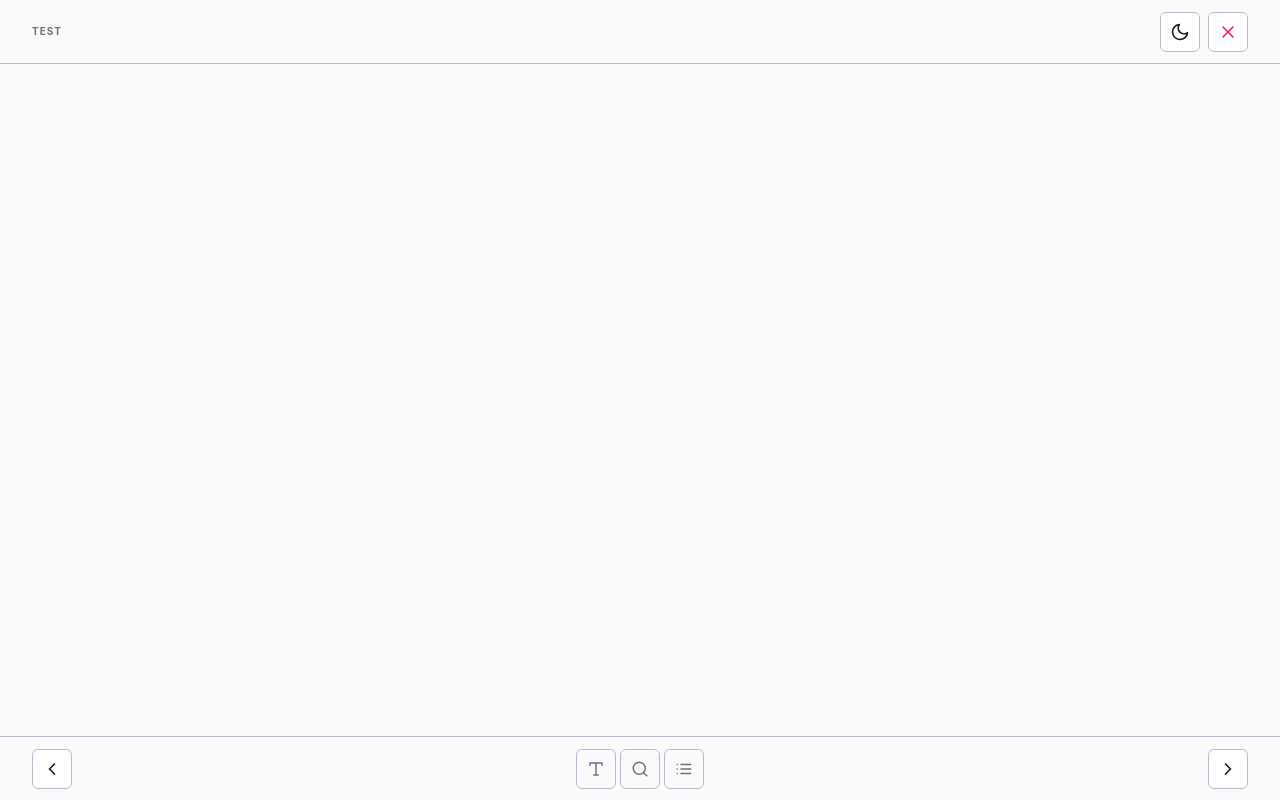
Test: ReaderOverlay › toggles search panel when search button is clicked
expect the text "find keyword" is not shown: met
Click the button named "Search book". click: (640, 768)
box: 620,748 -> 660,788
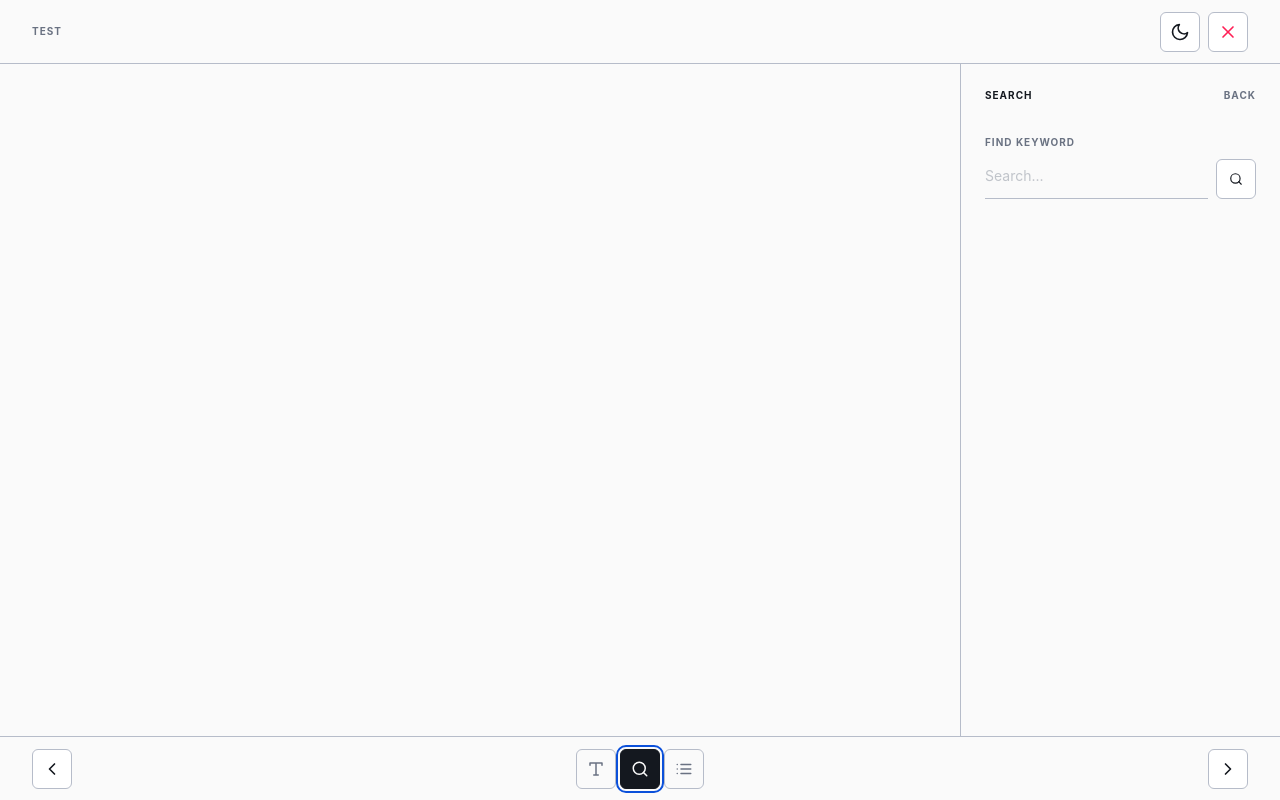
expect the text "find keyword" is shown: met, box 985,135 -> 1075,150
